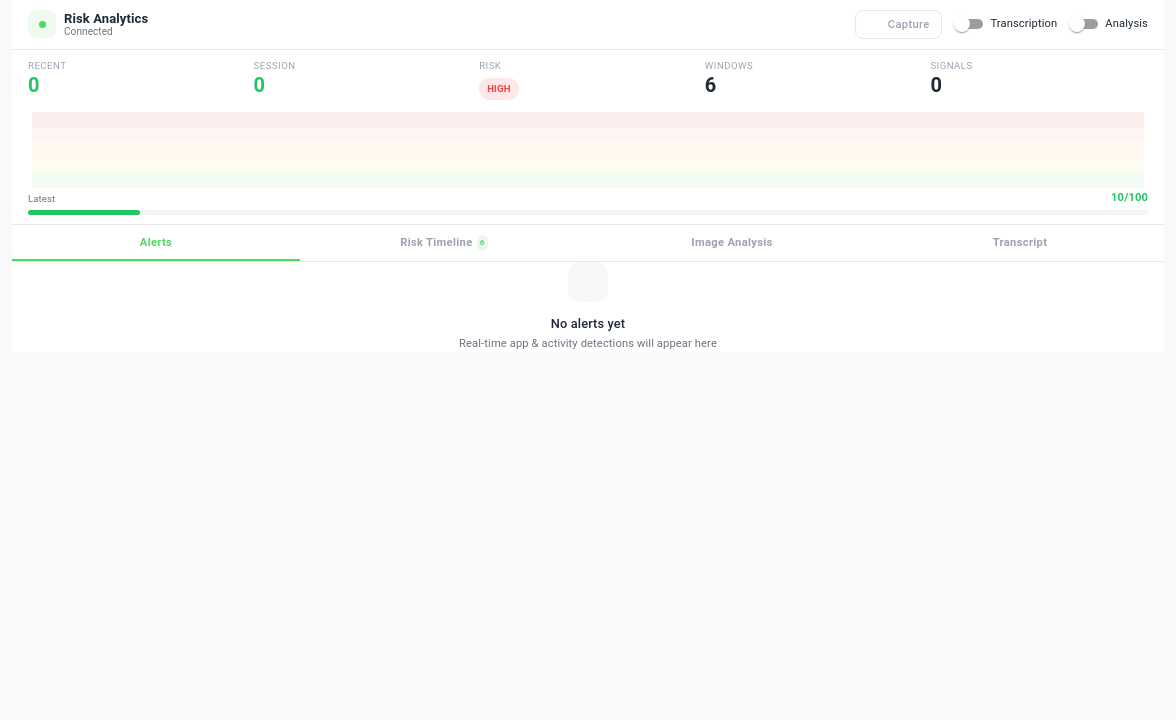
Test: AnalyticsPanel › RollingSummaryCard reflects a declining trend
What coordinates should you click on to do the following:
click the tab "Risk Timeline 6"
I would click on:
 (444, 243)
Its box is [300,225,588,261].
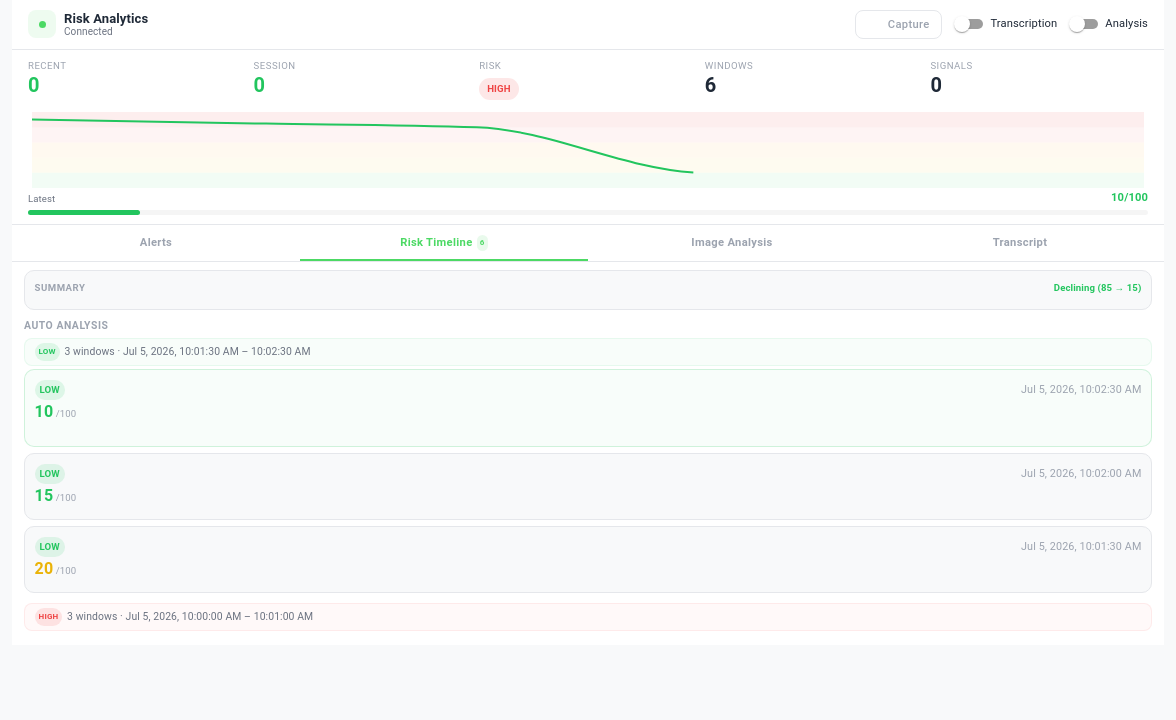
Now the text "Declining (85 → 15)" is shown, box [1054,281,1141,295]
